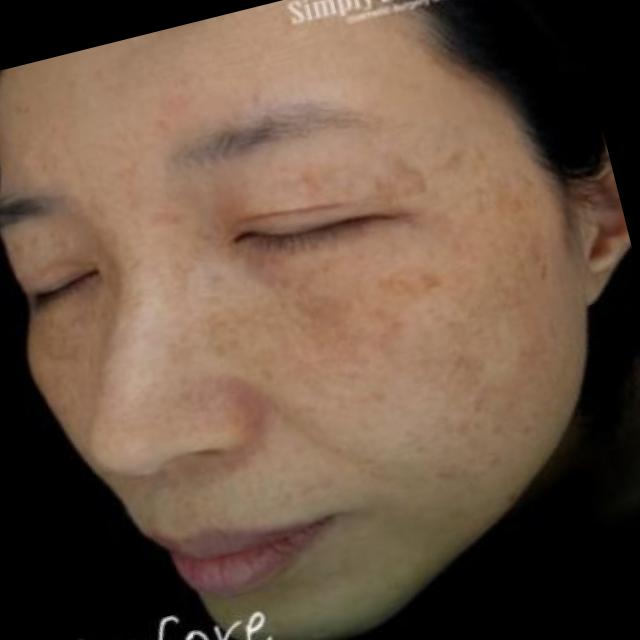melasma: (182, 193, 543, 474), (282, 118, 498, 206)
